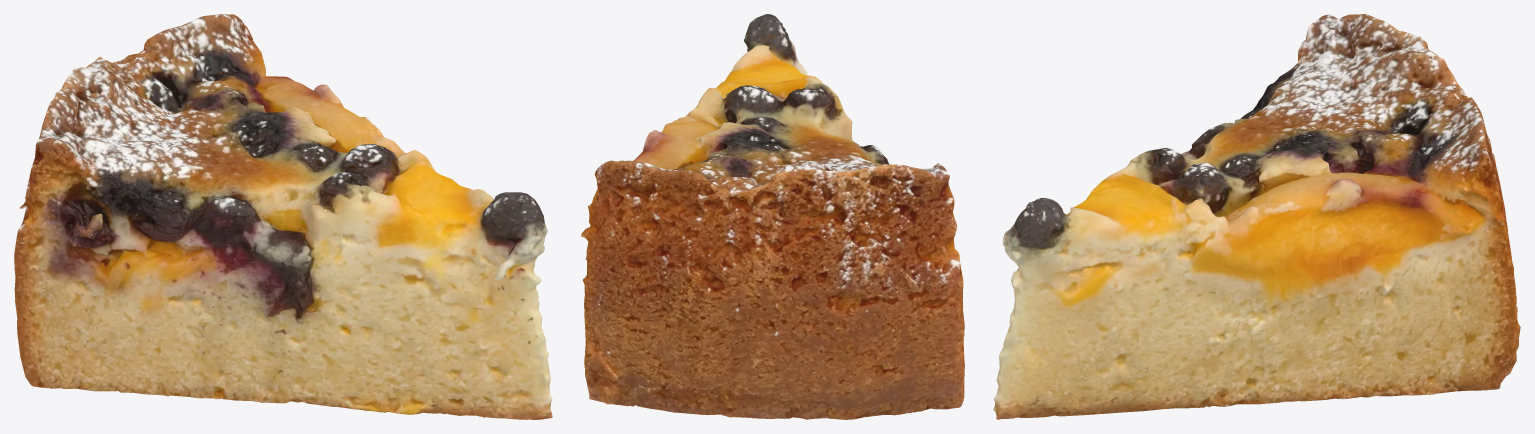
The model's file is piece_cake.glb.
The picture shows the model from 3 angles, left to right: view 1: azimuth 30°, elevation 25°; view 2: azimuth 150°, elevation 25°; view 3: azimuth 270°, elevation 25°; orthographic projection. The views are drawn at different scales.
Visible parts, largest first — view 1: cake; view 2: cake; view 3: cake.
Part boxes in pixels (x1=…): cake: x1=14, y1=14, x2=552, y2=419; cake: x1=581, y1=14, x2=964, y2=419; cake: x1=993, y1=14, x2=1520, y2=419.
Bounding box in the file's own units: 0.9036 × 0.6001 × 1.12.
1 material, 1 textured.
